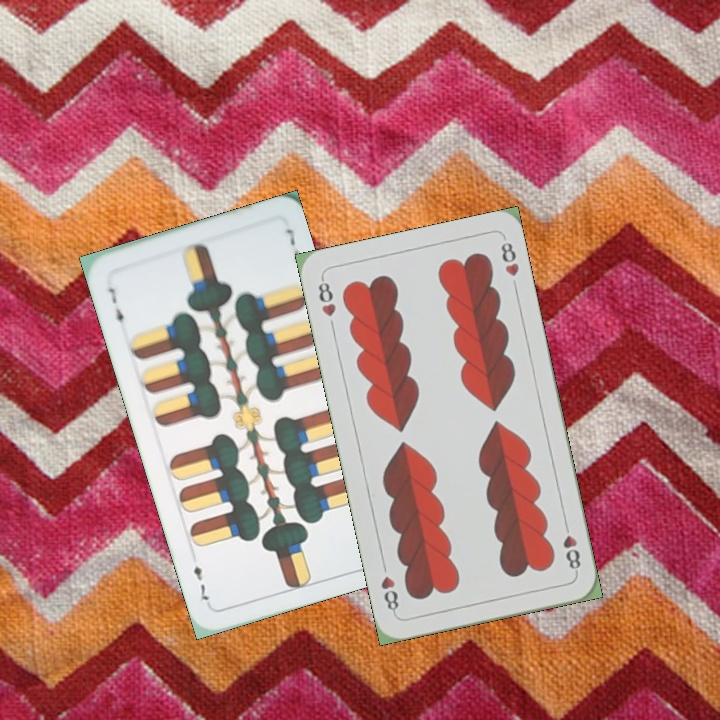E7: (104, 283, 127, 332)
H8: (559, 518, 583, 576), (314, 274, 338, 320)
